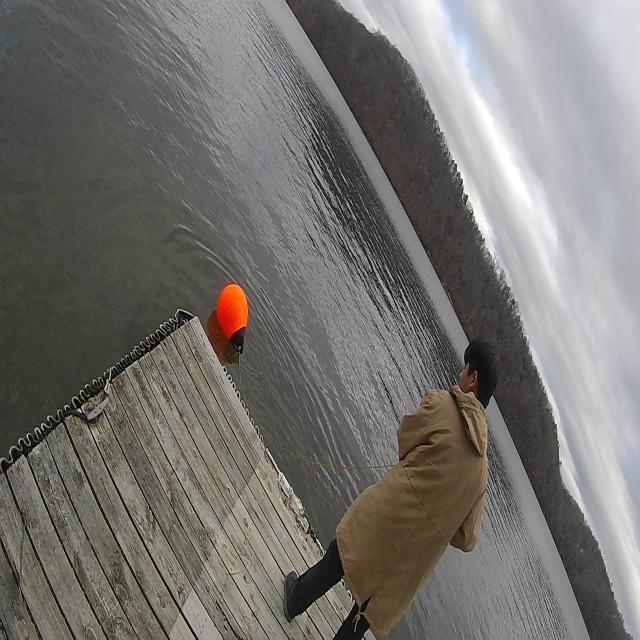Buoy: (215, 283, 250, 339)
